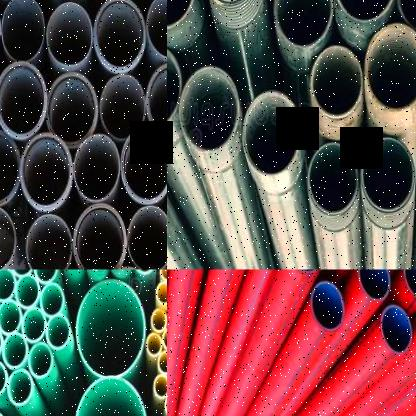pipe: (75, 279, 145, 379), (179, 66, 238, 152), (243, 90, 301, 176), (365, 23, 416, 112), (20, 133, 73, 210), (361, 136, 414, 212), (46, 72, 98, 148), (312, 45, 362, 118), (94, 0, 146, 70), (309, 142, 358, 215), (72, 203, 126, 269), (121, 126, 167, 203), (0, 63, 47, 138), (74, 134, 120, 201), (100, 75, 146, 140), (74, 375, 146, 416), (46, 1, 92, 65), (275, 0, 333, 48), (1, 0, 44, 61), (26, 213, 72, 270), (128, 204, 167, 269), (312, 281, 344, 331), (146, 62, 167, 138), (382, 304, 412, 353), (334, 0, 398, 22), (0, 129, 19, 201), (145, 0, 167, 59), (167, 44, 180, 128), (0, 204, 15, 269), (7, 370, 33, 406), (358, 270, 390, 299), (28, 342, 53, 378), (2, 334, 28, 368), (46, 315, 71, 350), (40, 283, 65, 317), (167, 0, 196, 29), (15, 275, 40, 308), (22, 309, 46, 342), (0, 300, 22, 334), (397, 0, 416, 34), (0, 269, 15, 300), (145, 333, 162, 357), (403, 269, 416, 299), (151, 309, 167, 332), (153, 374, 167, 399), (33, 269, 57, 283), (0, 361, 7, 396), (156, 282, 167, 304), (157, 351, 167, 374), (162, 327, 167, 350), (159, 270, 167, 280), (0, 326, 2, 361)
